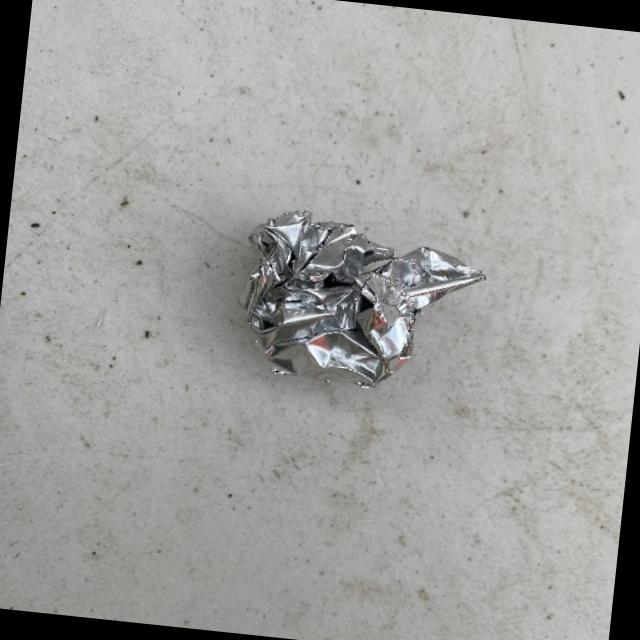metal: (232, 202, 491, 398)
